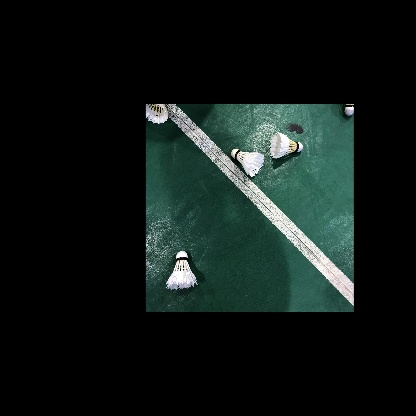ball_single: (166, 251, 198, 290), (231, 149, 265, 177), (269, 132, 303, 159), (146, 104, 168, 124), (344, 104, 354, 116)
